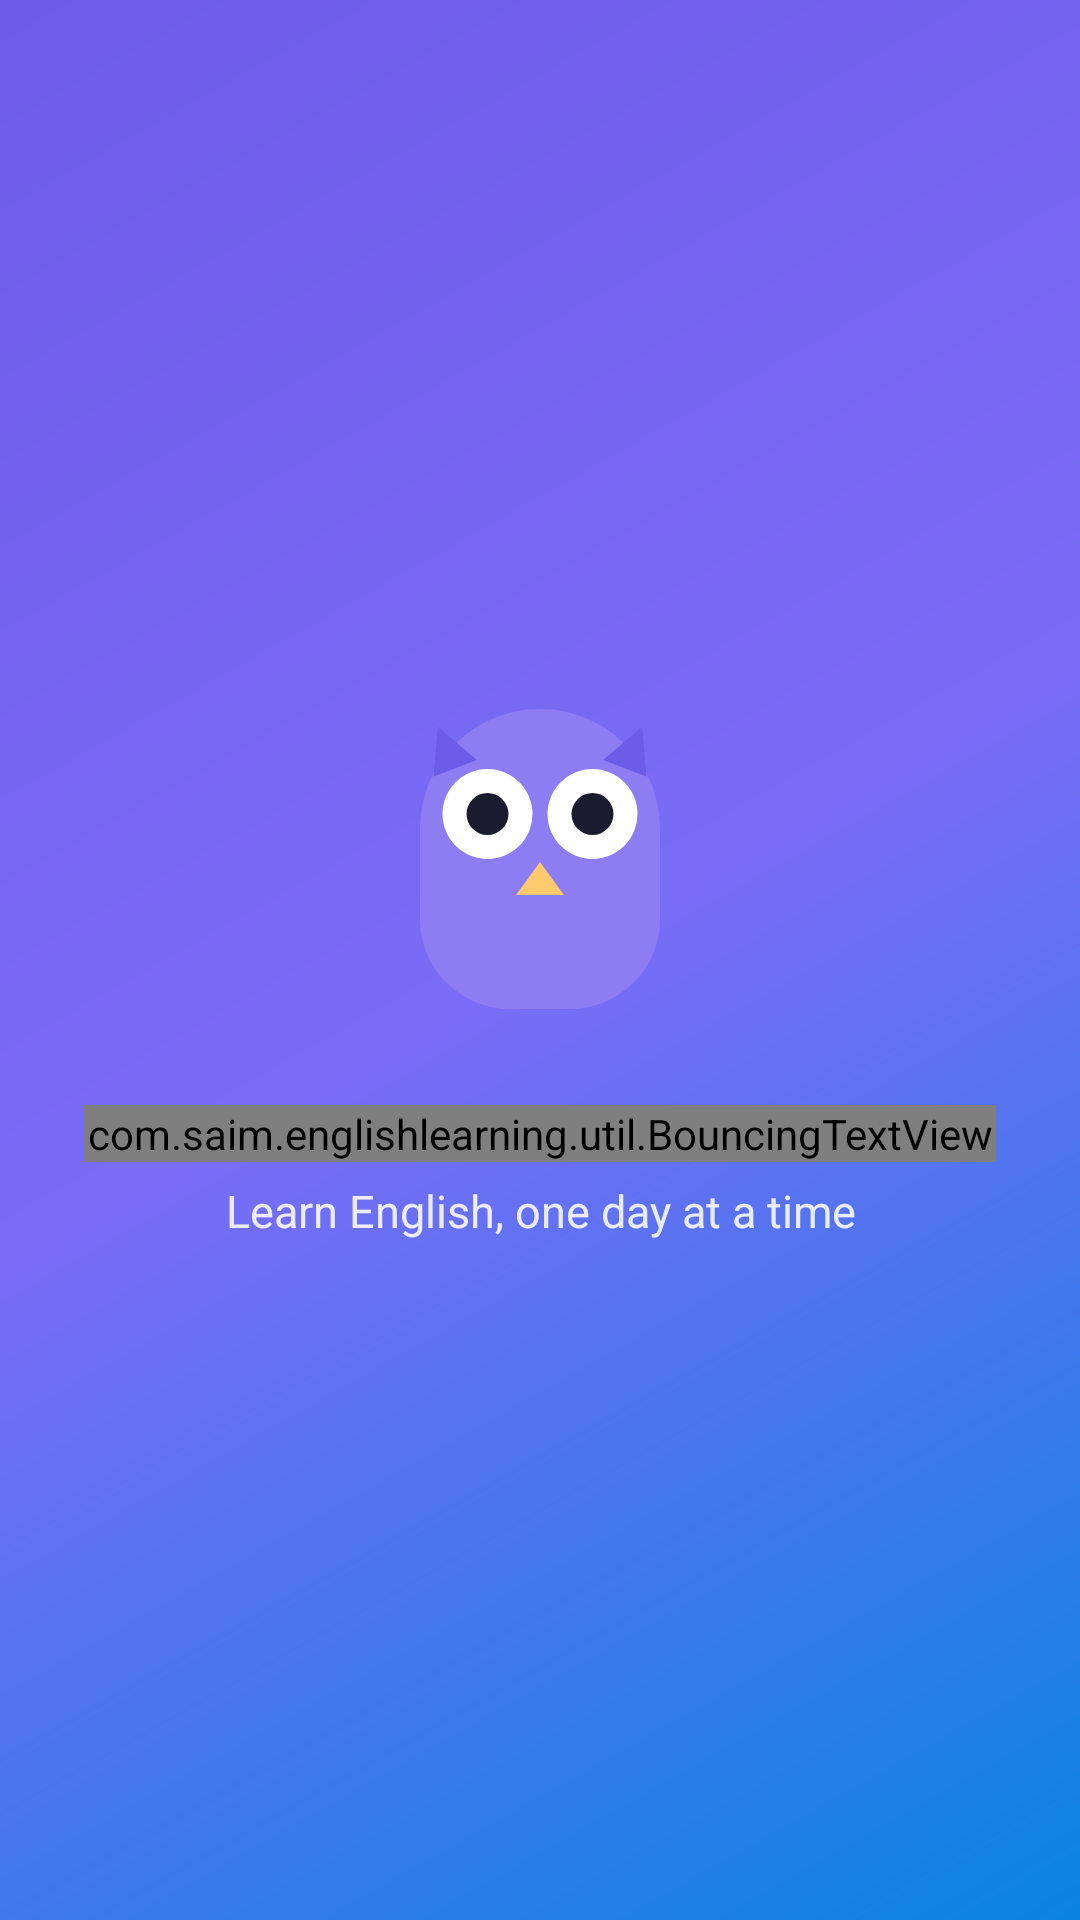

Screen size 1080px x 1920px. Icon name, then its center in pixels as (x=x, y=y):
owl: (x=540, y=832)
